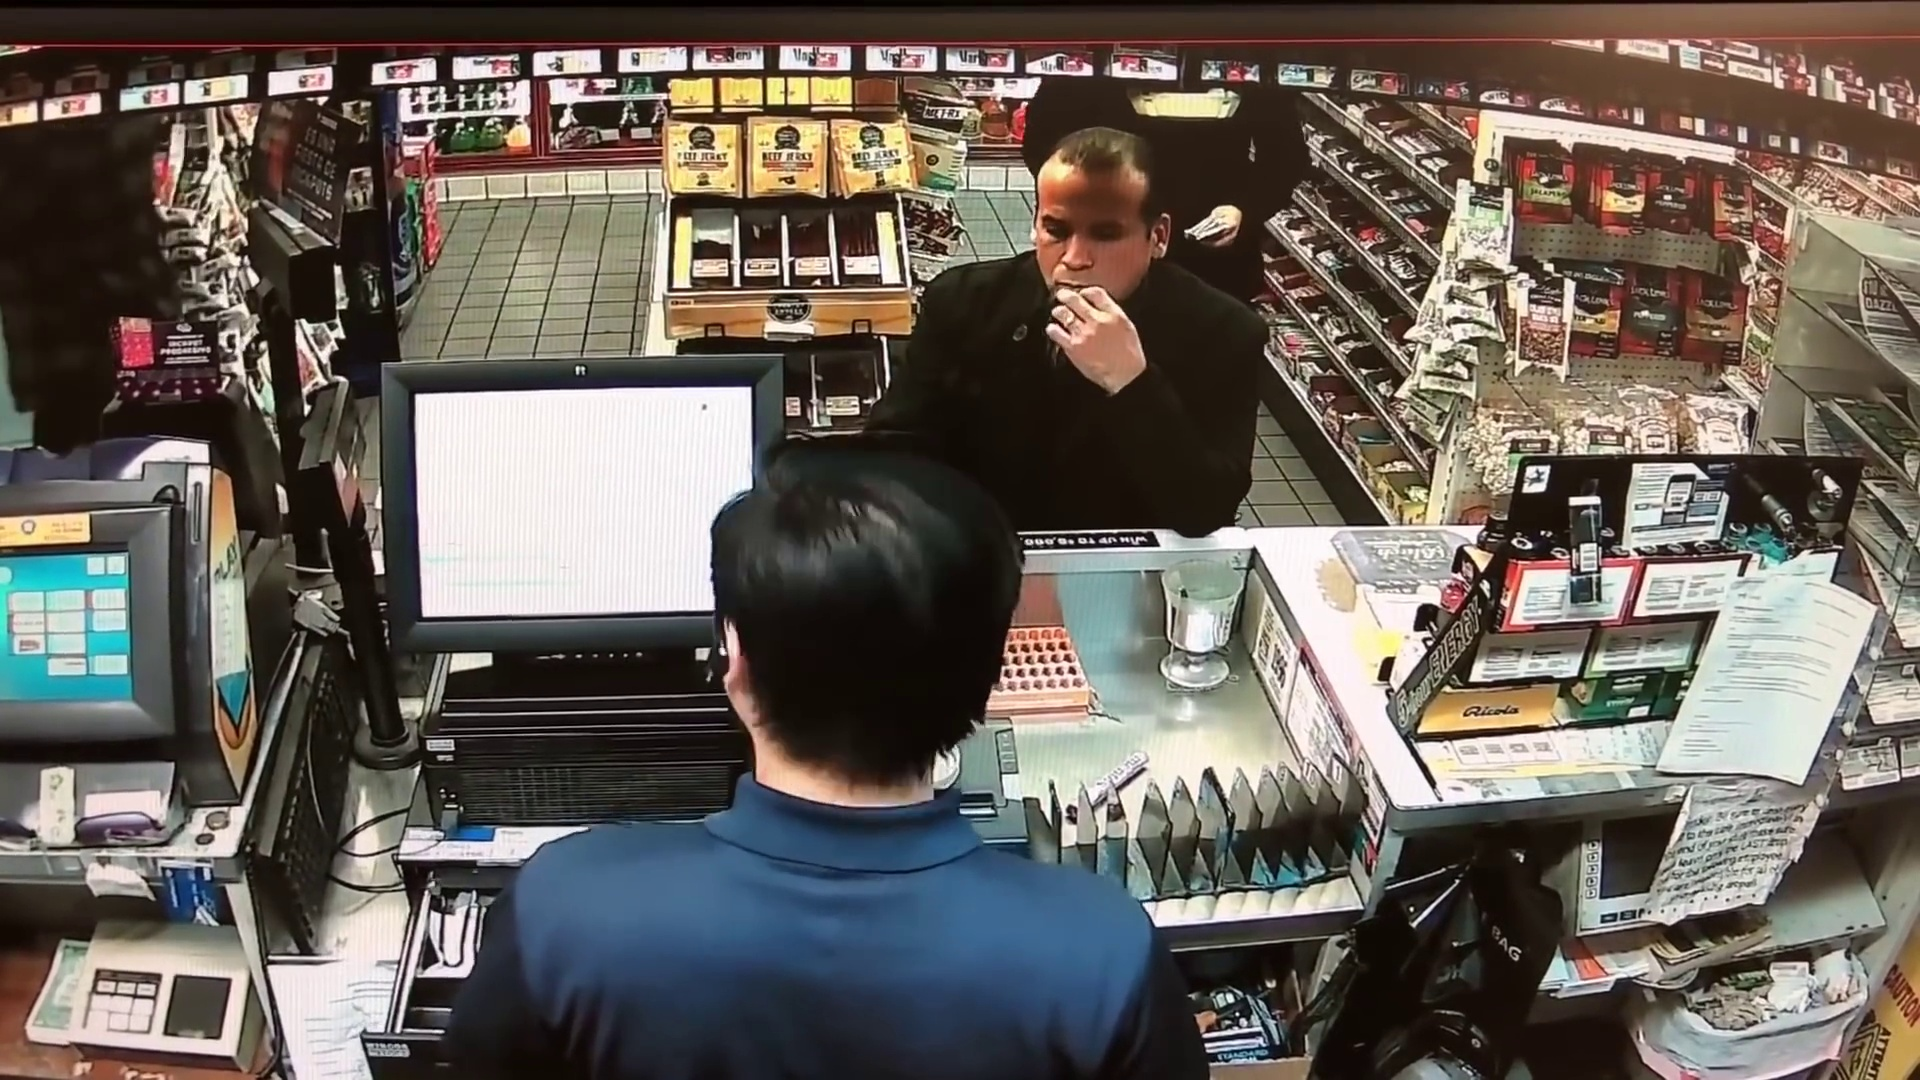face: (1031, 175, 1144, 301)
